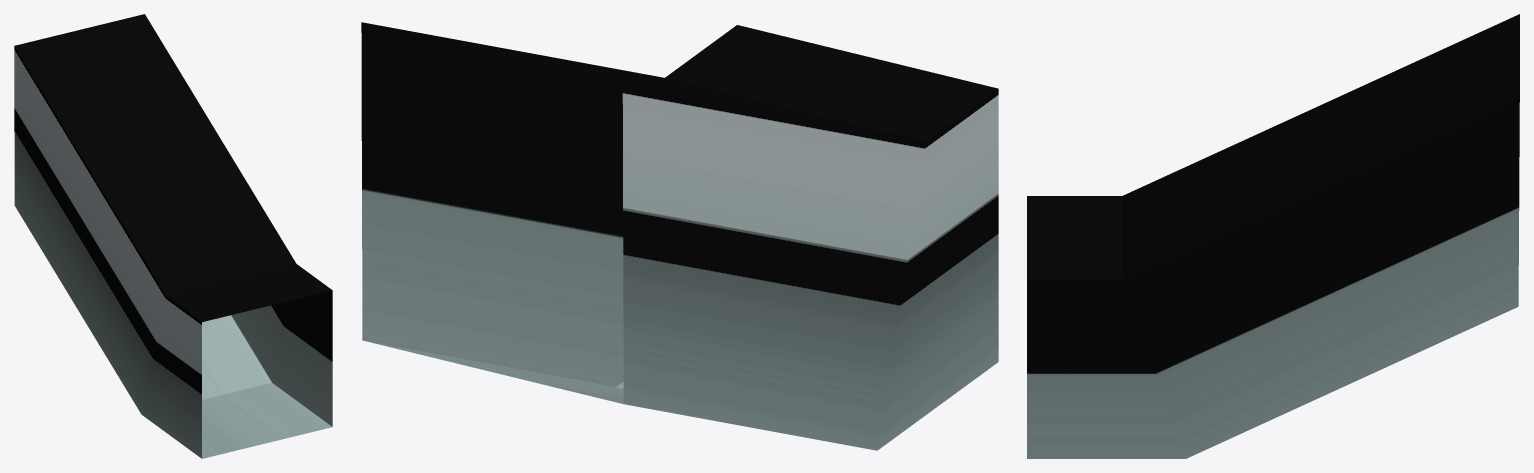
The model's file is caveUpStairs.fbx.
3 renders of one model, left to right at view 1: azimuth 30°, elevation 25°; view 2: azimuth 150°, elevation 25°; view 3: azimuth 270°, elevation 25°, orthographic. The views are drawn at different scales.
Visible parts, largest first — view 1: Cube.006; view 2: Cube.006; view 3: Cube.006.
Part boxes in pixels (x1=…): Cube.006: x1=14, y1=14, x2=332, y2=458; Cube.006: x1=361, y1=22, x2=998, y2=450; Cube.006: x1=1027, y1=14, x2=1519, y2=458.
Bounding box in the file's own units: 200 × 403 × 498.
Materials: 1 (1 with a texture image).
